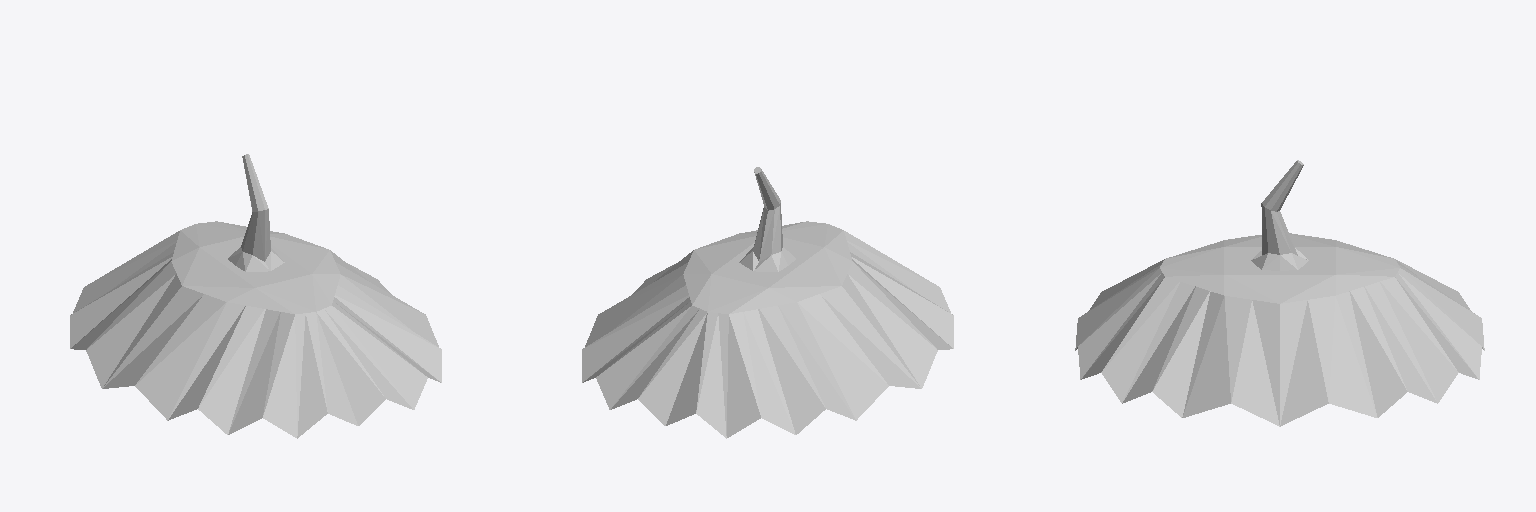
Rendered from sombreroCalabazo.obj.
3 renders of one model, left to right at view 1: azimuth 30°, elevation 25°; view 2: azimuth 150°, elevation 25°; view 3: azimuth 270°, elevation 25°, orthographic.
Parts seen in each view (by area): view 1: calabazoTallo; view 2: calabazoTallo; view 3: calabazoTallo.
Boxes of the visible parts, x1=… form: calabazoTallo: x1=70, y1=154, x2=441, y2=438; calabazoTallo: x1=582, y1=167, x2=953, y2=438; calabazoTallo: x1=1075, y1=160, x2=1484, y2=426.
Bounding box in the file's own units: 1.76 × 1.04 × 2.03.